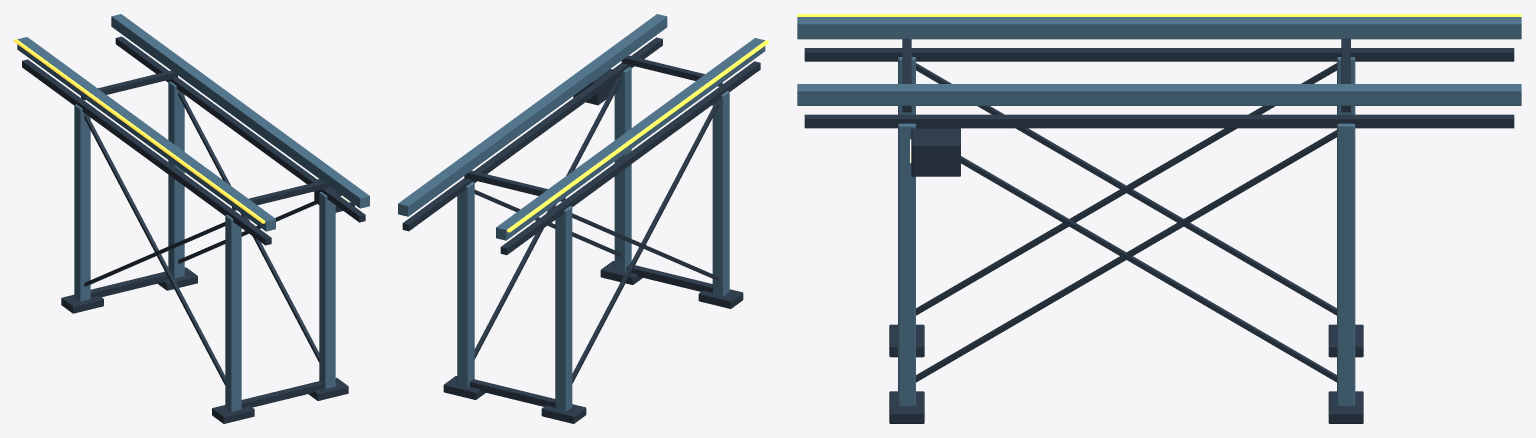
The model's file is rebar-gantry-frame-v4-medium.glb.
3 views of the same model, side by side, from view 1: azimuth 30°, elevation 25°; view 2: azimuth 150°, elevation 25°; view 3: azimuth 270°, elevation 25° (orthographic). The views are drawn at different scales.
Parts seen in each view (by area): view 1: cr-main-girder.003, cr-main-girder.002, cr-leg.004, cr-leg.006, cr-lower-girder.002, cr-leg.005, cr-lower-girder.003, cr-leg.007, cr-brace-a.002, cr-walkway-safety.001, cr-brace-a.003, cr-sill.002 (+9 smaller); view 2: cr-main-girder.003, cr-main-girder.002, cr-leg.005, cr-leg.007, cr-leg.004, cr-lower-girder.002, cr-lower-girder.003, cr-leg.006, cr-brace-b.002, cr-walkway-safety.001, cr-brace-b.003, cr-sill.003 (+10 smaller); view 3: cr-main-girder.002, cr-main-girder.003, cr-lower-girder.003, cr-lower-girder.002, cr-leg.007, cr-leg.006, cr-brace-a.003, cr-brace-b.003, cr-brace-a.002, cr-brace-b.002, cr-cabin.001, cr-walkway-safety.001 (+2 smaller).
Boxes of the visible parts, <box> form: cr-main-girder.003: <box>111,14,369,208</box>; cr-main-girder.002: <box>17,37,275,231</box>; cr-leg.004: <box>225,214,241,411</box>; cr-leg.006: <box>319,191,335,388</box>; cr-lower-girder.002: <box>22,59,271,245</box>; cr-leg.005: <box>74,104,90,301</box>; cr-lower-girder.003: <box>115,36,365,222</box>; cr-leg.007: <box>168,81,184,278</box>; cr-brace-a.002: <box>84,114,225,385</box>; cr-walkway-safety.001: <box>14,39,265,223</box>; cr-brace-a.003: <box>178,91,319,362</box>; cr-sill.002: <box>241,381,323,407</box>; cr-main-girder.003: <box>398,14,667,216</box>; cr-main-girder.002: <box>496,38,765,240</box>; cr-leg.005: <box>555,206,572,411</box>; cr-leg.007: <box>457,182,474,387</box>; cr-leg.004: <box>712,91,729,296</box>; cr-lower-girder.002: <box>500,61,760,255</box>; cr-lower-girder.003: <box>402,37,662,231</box>; cr-leg.006: <box>614,67,631,272</box>; cr-brace-b.002: <box>572,101,719,383</box>; cr-walkway-safety.001: <box>507,40,768,232</box>; cr-brace-b.003: <box>474,77,621,359</box>; cr-sill.003: <box>469,379,555,407</box>; cr-main-girder.002: <box>797,17,1521,39</box>; cr-main-girder.003: <box>797,84,1521,105</box>; cr-lower-girder.003: <box>804,114,1514,128</box>; cr-lower-girder.002: <box>804,48,1514,61</box>; cr-leg.007: <box>1337,123,1355,405</box>; cr-leg.006: <box>898,123,915,405</box>; cr-brace-a.003: <box>916,130,1336,382</box>; cr-brace-b.003: <box>961,156,1336,382</box>; cr-brace-a.002: <box>916,63,1336,315</box>; cr-brace-b.002: <box>916,63,1336,315</box>; cr-cabin.001: <box>911,128,960,176</box>; cr-walkway-safety.001: <box>797,14,1521,16</box>.
Size of the model in its own units: 16 by 24.62 by 49.5.
